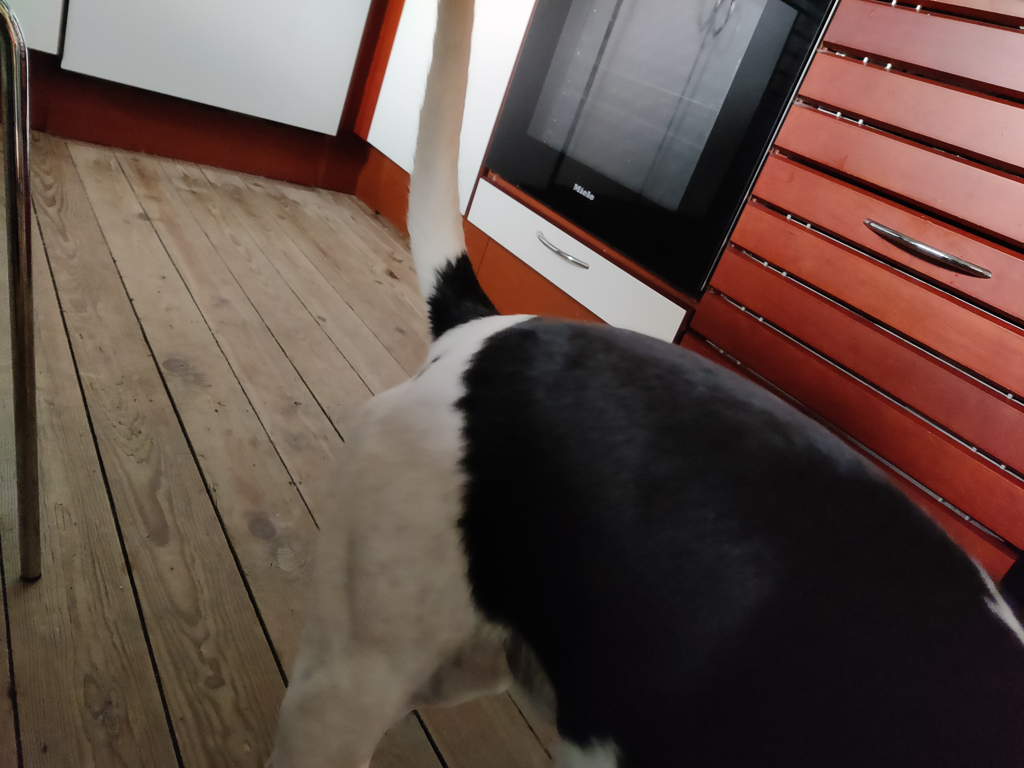Dog: (266, 0, 1024, 768)
